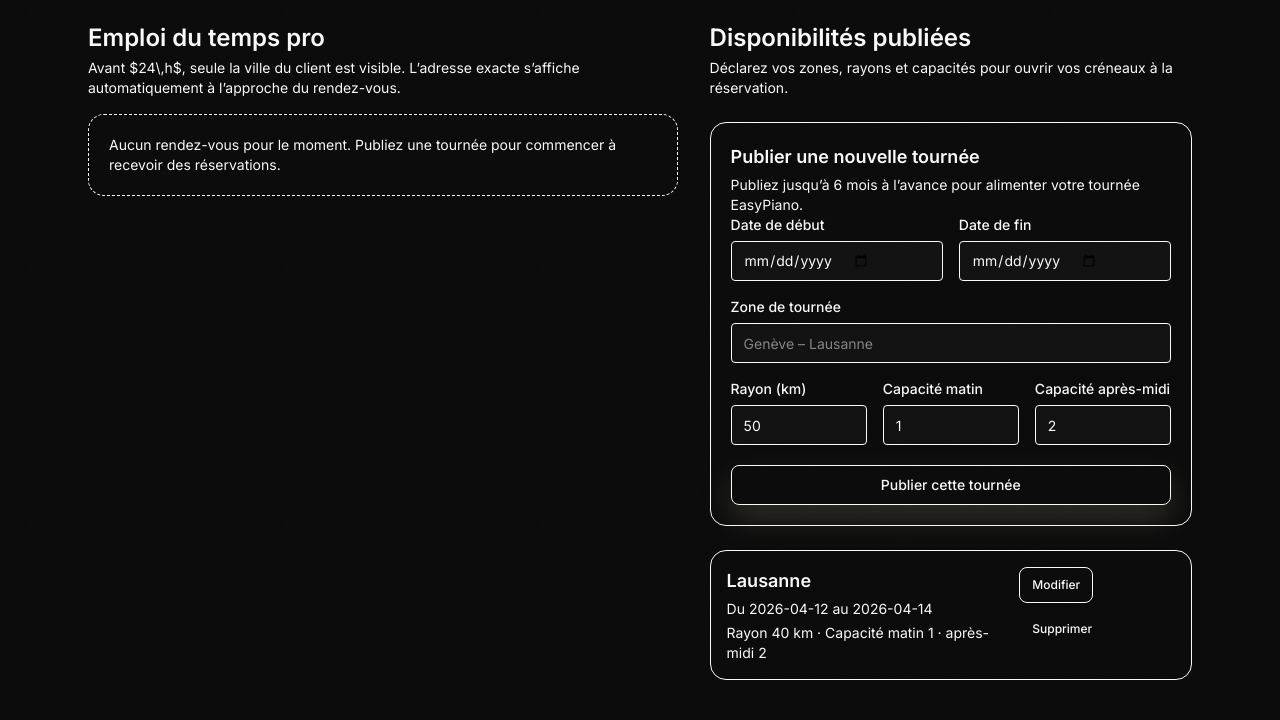
ProDashboard › permet de modifier une disponibilité déverrouillée
(page scrolled)
Expected: the heading "Disponibilités publiées" is shown, 710,23 -> 971,52
Click the button with aria-label "Modifier la tournée Lausanne". click: (1056, 585)
box: 1019,567 -> 1093,603
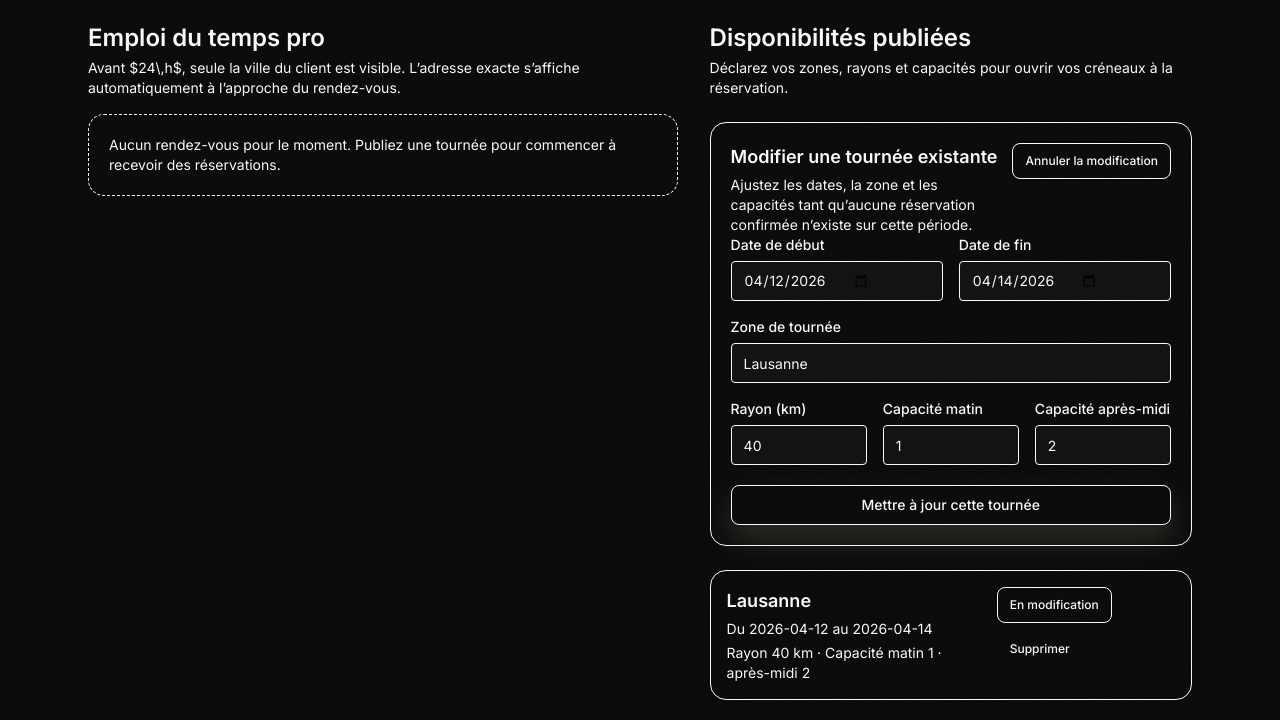
Expected: the button "Mettre à jour cette tournée" is shown, 731,485 -> 1171,525
Replace the text in the field labelled "Zone de tournée" with "Berne". click: (951, 363)
box: 731,343 -> 1171,383
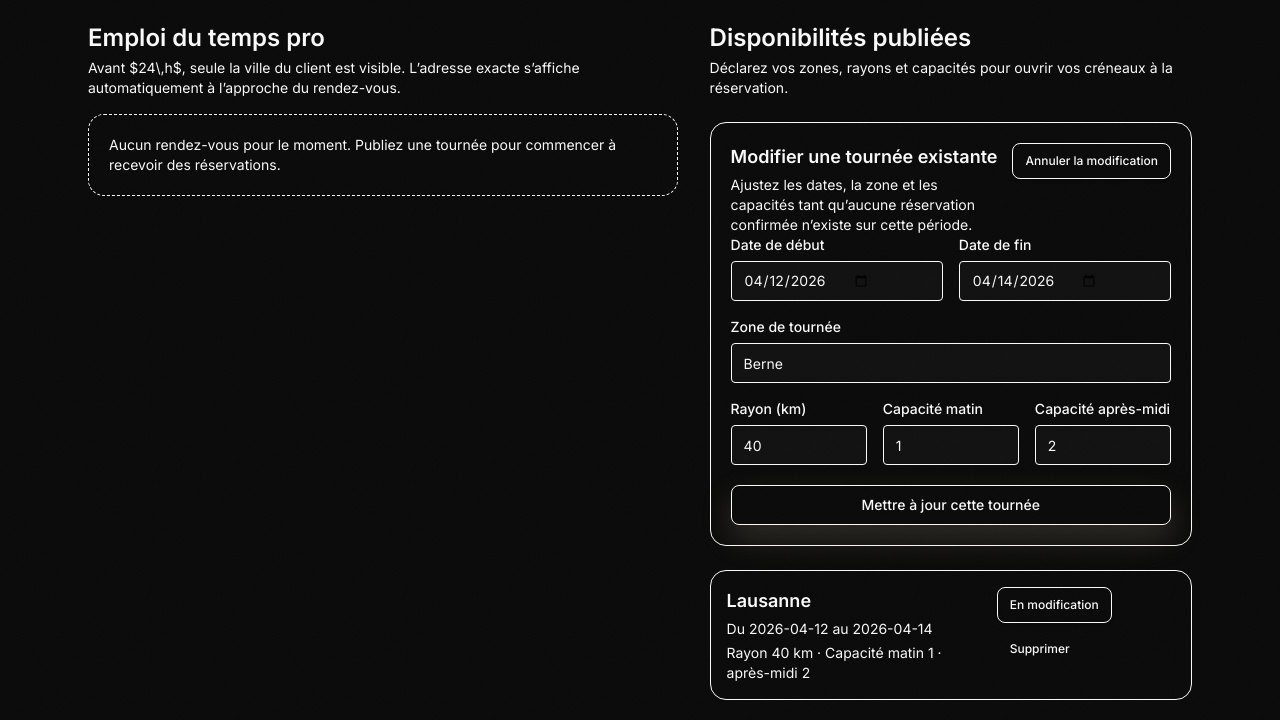
Replace the text in the number field labelled "Rayon (km)" with "30". click: (799, 445)
box: 731,425 -> 867,465
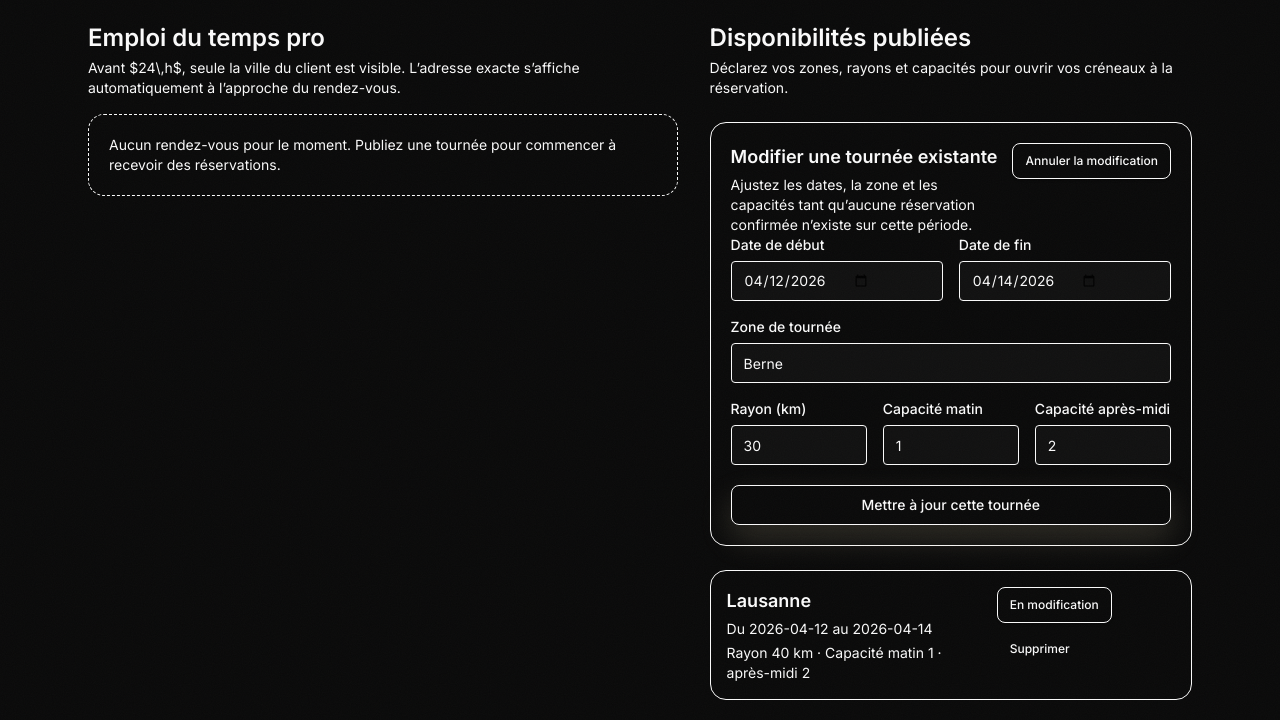
Click the button "Mettre à jour cette tournée". click: (951, 505)
box: 731,485 -> 1171,525
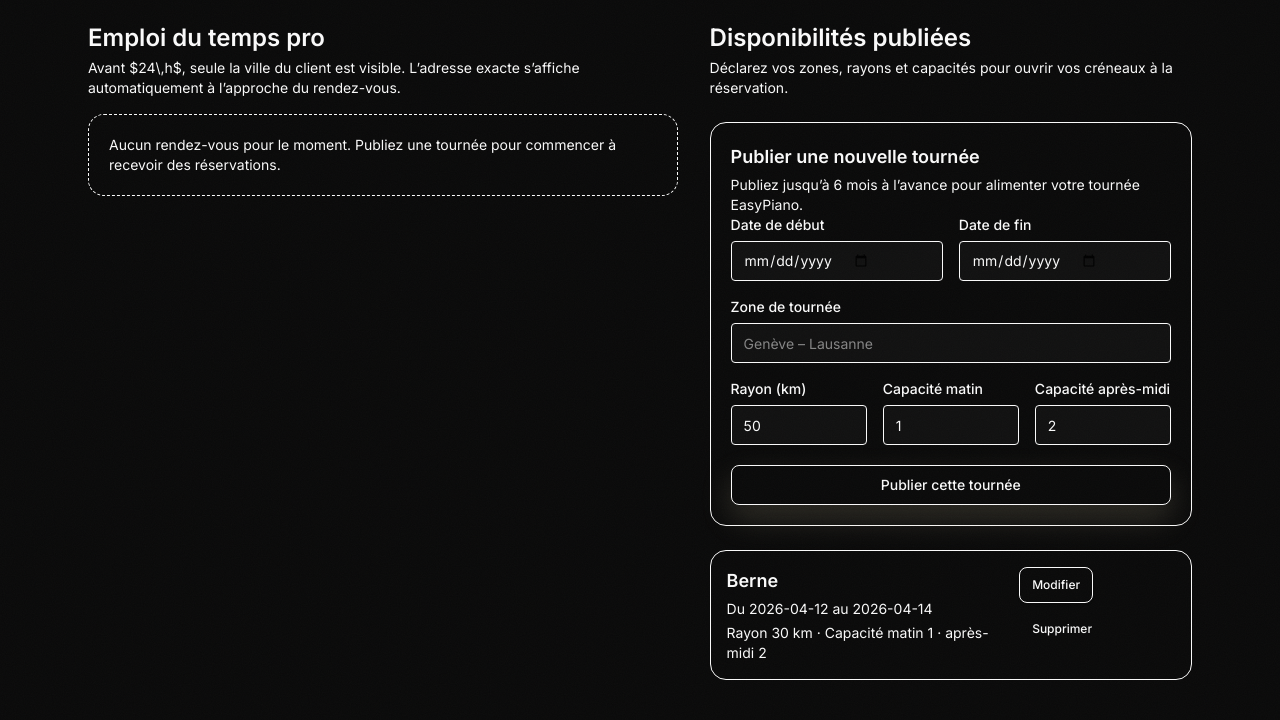
Expected: the heading "Berne" is shown, 727,570 -> 778,591
